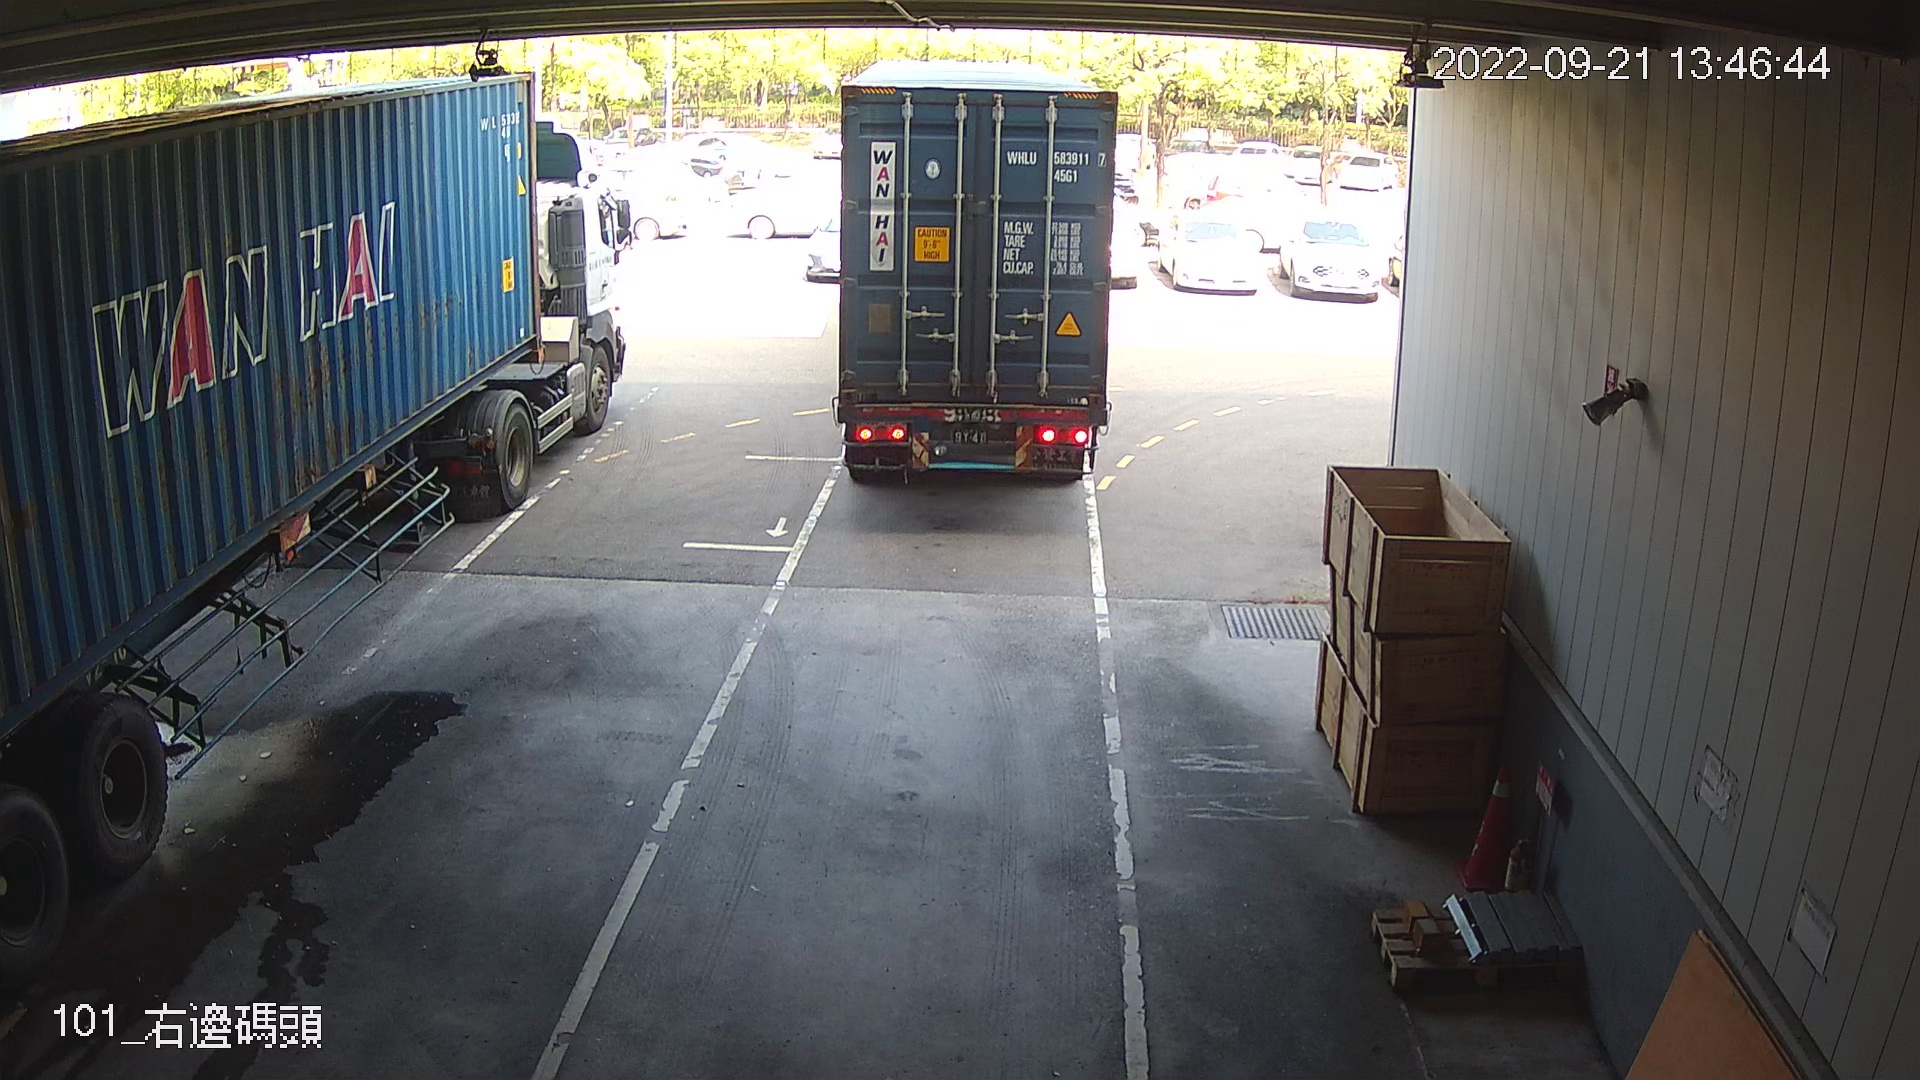container: (1004, 142, 1110, 189)
